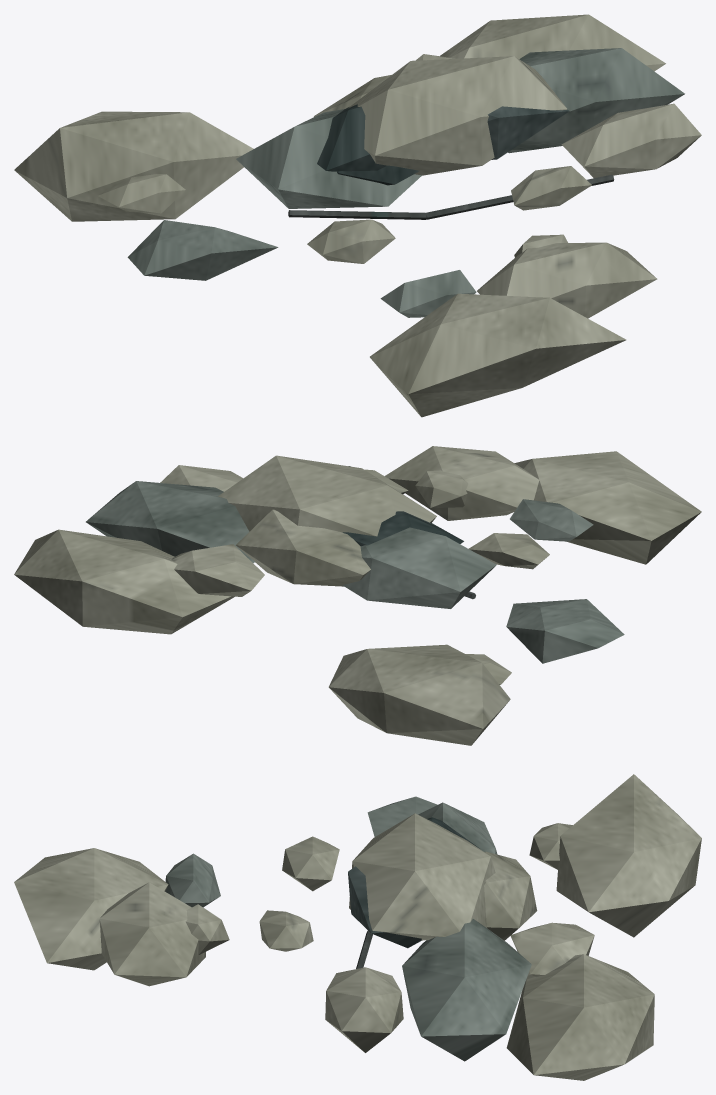
Rendered from 0103_scree_pile_03.glb.
3 views of the same model, one above another, from view 1: azimuth 30°, elevation 25°; view 2: azimuth 150°, elevation 25°; view 3: azimuth 270°, elevation 25° (orthographic). The views are drawn at different scales.
Visible parts, largest first — view 1: stone_light, stone, stone_dark, iron; view 2: stone_light, stone, stone_dark; view 3: stone_light, stone, stone_dark.
Boxes of the visible parts, x1=… form: stone_light: x1=14, y1=14, x2=701, y2=417; stone: x1=127, y1=48, x2=684, y2=317; stone_dark: x1=317, y1=104, x2=569, y2=185; iron: x1=288, y1=174, x2=614, y2=219; stone_light: x1=14, y1=446, x2=701, y2=745; stone: x1=86, y1=481, x2=624, y2=663; stone_dark: x1=342, y1=466, x2=463, y2=546; stone_light: x1=14, y1=774, x2=701, y2=1080; stone: x1=165, y1=796, x2=531, y2=1061; stone_dark: x1=348, y1=817, x2=480, y2=948.
Bounding box in the file's own units: 2.89 × 0.8361 × 2.93.
Materials: 4 (4 with a texture image).
